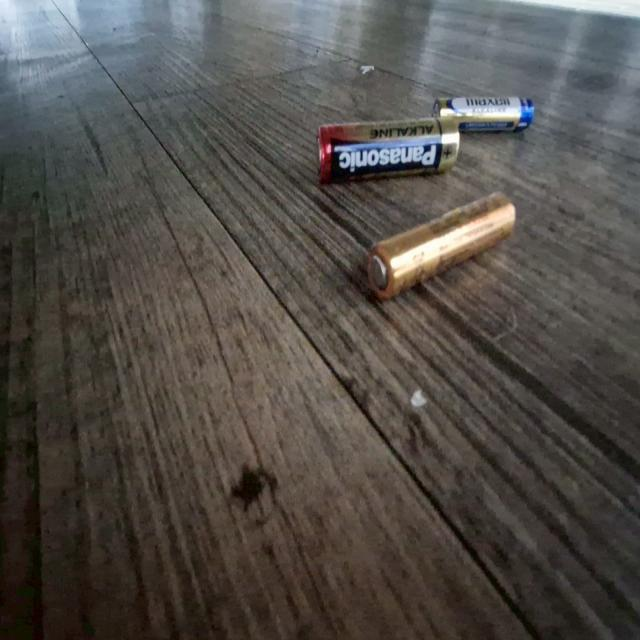battery: (317, 131, 464, 178)
